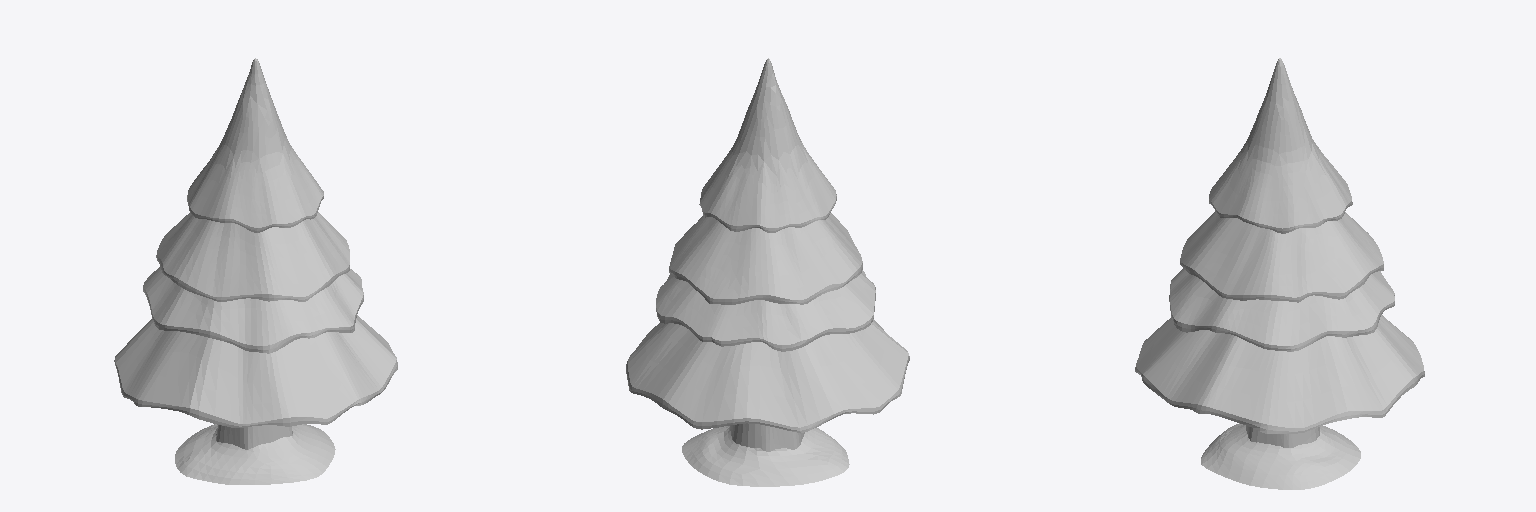
Rendered from ChristmasTree.obj.
3 renders of one model, left to right at view 1: azimuth 30°, elevation 25°; view 2: azimuth 150°, elevation 25°; view 3: azimuth 270°, elevation 25°, orthographic.
Visible parts, largest first — view 1: ChrsitmasTree_MidPoly; view 2: ChrsitmasTree_MidPoly; view 3: ChrsitmasTree_MidPoly.
Part boxes in pixels (x1,y1,x2,y2): ChrsitmasTree_MidPoly: (114, 58, 397, 484); ChrsitmasTree_MidPoly: (626, 58, 909, 486); ChrsitmasTree_MidPoly: (1135, 58, 1424, 489).
Bounding box in the file's own units: 1.3 × 1.97 × 1.31.